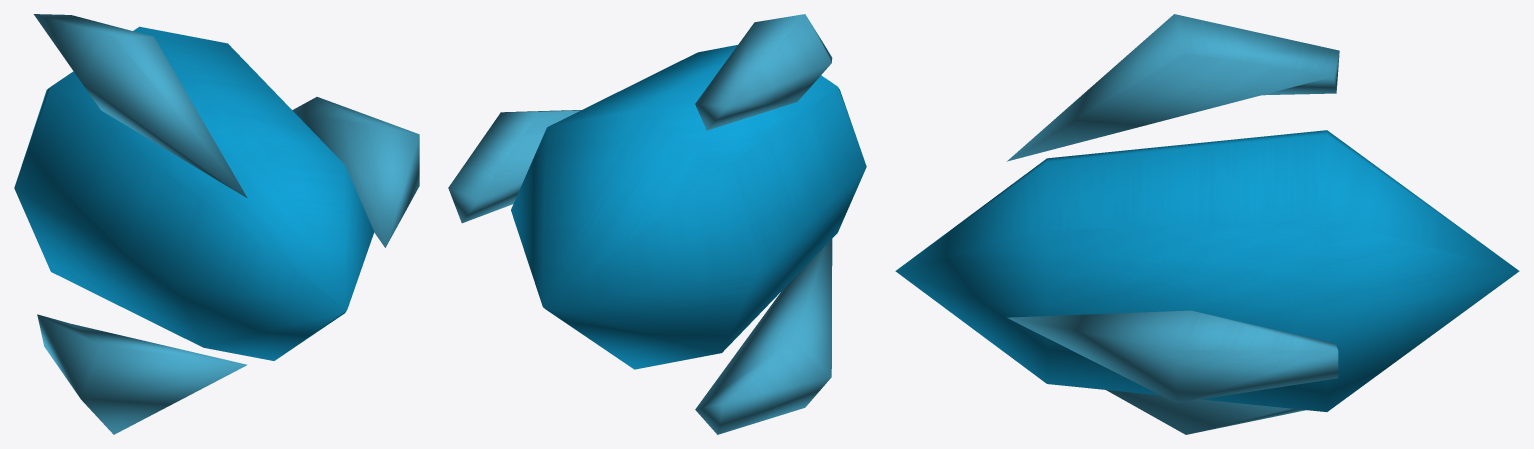
File: SM_manta_projectile_LOD1.fbx
3 views of the same model, side by side, from view 1: azimuth 30°, elevation 25°; view 2: azimuth 150°, elevation 25°; view 3: azimuth 270°, elevation 25° (orthographic). The views are drawn at different scales.
Visible parts, largest first — view 1: SM_manta_projectile_LOD1; view 2: SM_manta_projectile_LOD1; view 3: SM_manta_projectile_LOD1.
Boxes of the visible parts, bbox=[...] form: SM_manta_projectile_LOD1: bbox=[14, 14, 419, 434]; SM_manta_projectile_LOD1: bbox=[448, 14, 866, 434]; SM_manta_projectile_LOD1: bbox=[895, 14, 1519, 434].
Size of the model in its own units: 0.2018 by 0.312 by 0.2282.
